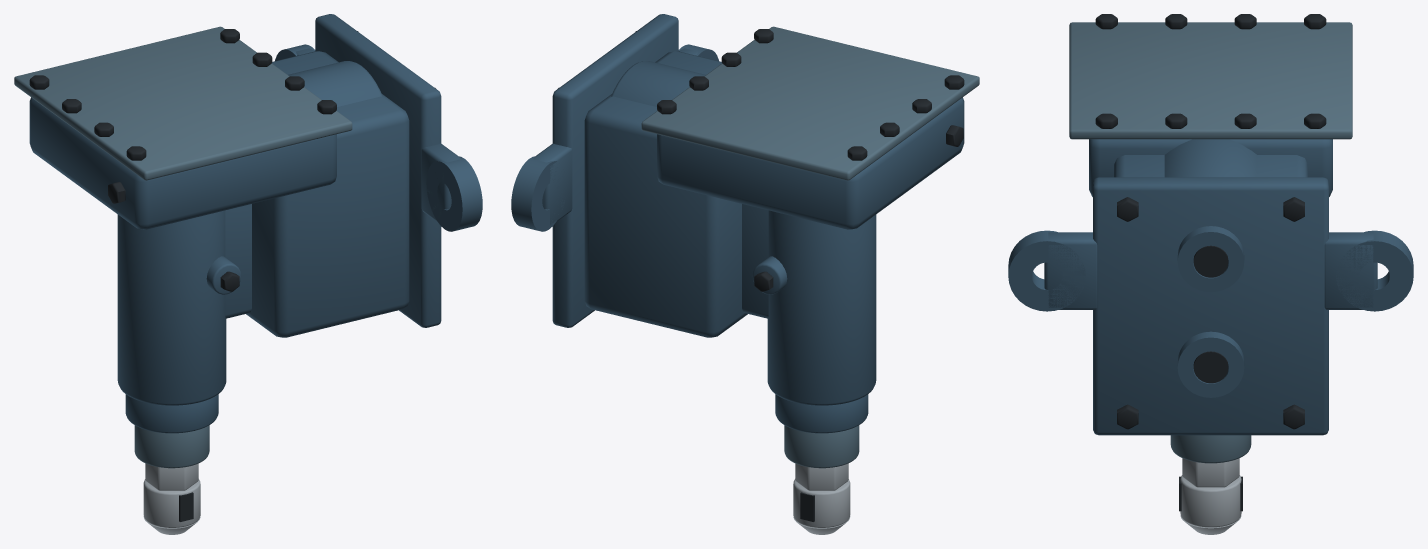
File: autoregime_265a1.glb
3 renders of one model, left to right at view 1: azimuth 30°, elevation 25°; view 2: azimuth 150°, elevation 25°; view 3: azimuth 270°, elevation 25°, orthographic. The views are drawn at different scales.
Parts seen in each view (by area): view 1: Авторежим_265А-1; view 2: Авторежим_265А-1; view 3: Авторежим_265А-1.
Boxes of the visible parts, x1,y1,x2,y2 form: Авторежим_265А-1: (14, 14, 482, 534); Авторежим_265А-1: (511, 14, 979, 534); Авторежим_265А-1: (1008, 14, 1413, 534).
Size of the model in its own units: 0.291 by 0.371 by 0.292.
